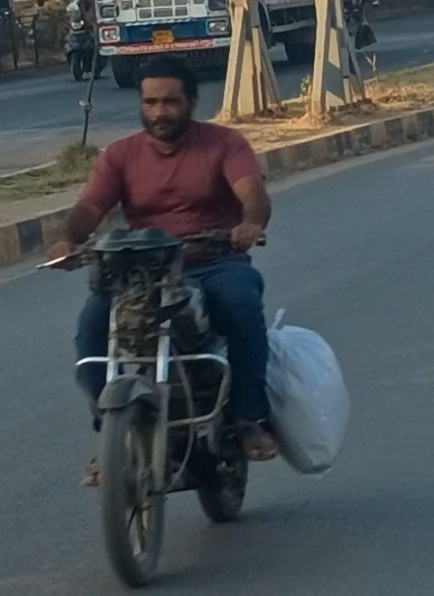BikeWithRider: (28, 48, 357, 593)
NoHelmet: (126, 49, 209, 145)
